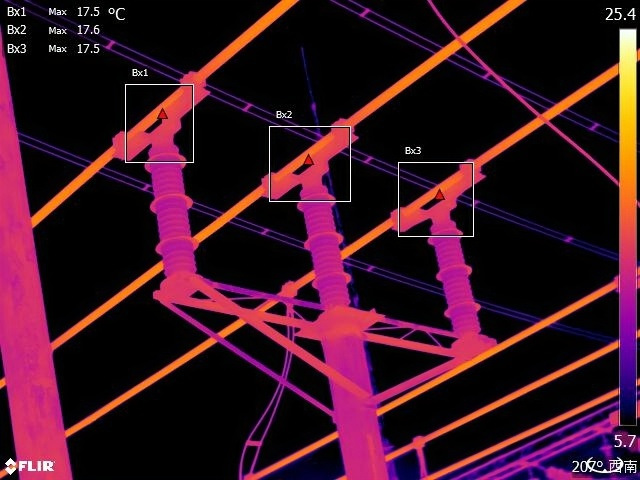clamp: (276, 271, 307, 311)
post insulator: (296, 182, 358, 307), (147, 152, 206, 274), (431, 217, 490, 332)
